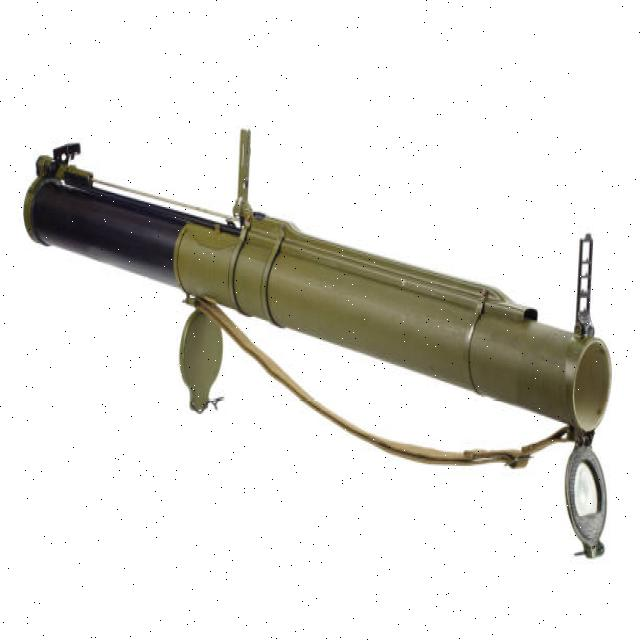bazooka: (18, 114, 626, 566)
